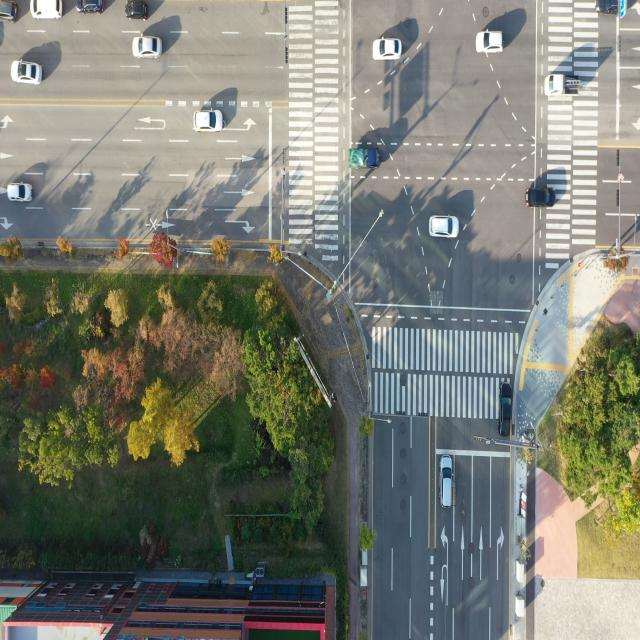car: (498, 379, 514, 444), (11, 57, 43, 88), (373, 32, 402, 62), (30, 0, 66, 23), (478, 26, 504, 54), (195, 109, 224, 132), (430, 216, 459, 238), (6, 181, 31, 203), (133, 38, 160, 58), (593, 0, 622, 18), (78, 0, 106, 17), (126, 0, 149, 19), (0, 1, 20, 21)
small_truck: (347, 141, 382, 172), (527, 182, 558, 210), (440, 456, 456, 510)
